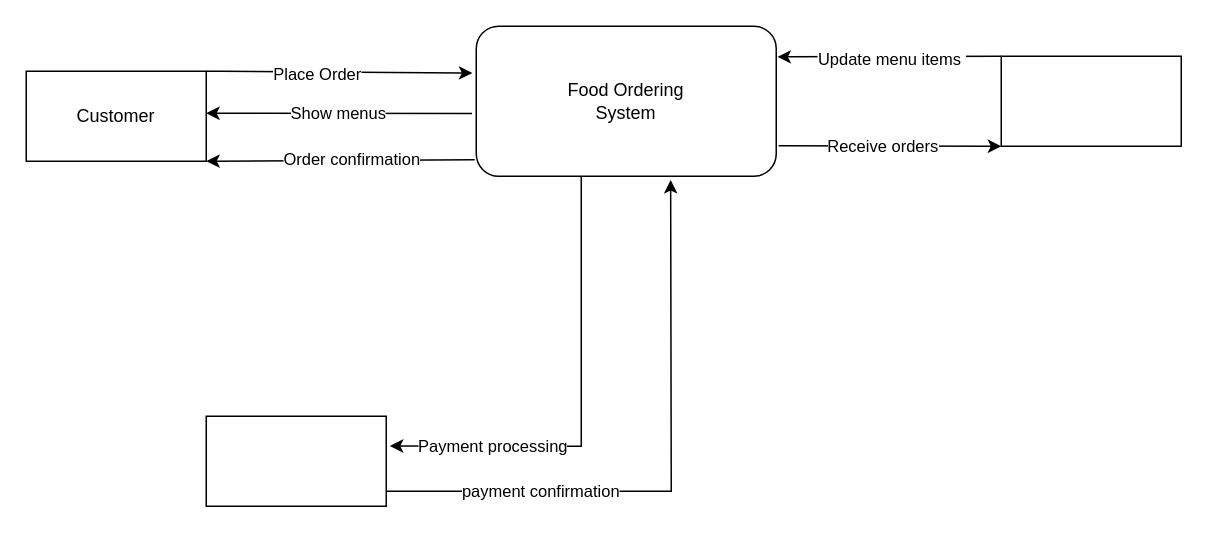
This 1208x533 diagram has some shape labels left out. The shapes that lost their labels are listed below. From the top down, each one's centre as x and y in pixels, then its label:
At [1090,100]: "Restaurant".
At [295,460]: "Payment Gateway".
